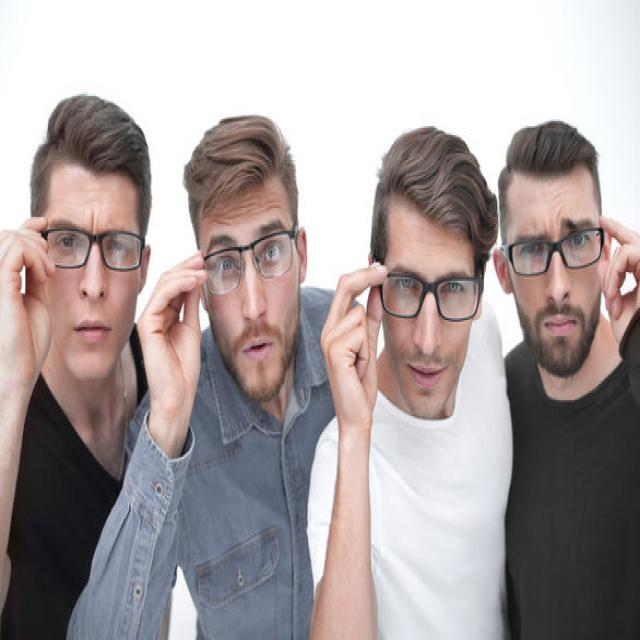Glasses: (199, 220, 299, 298), (374, 266, 484, 324), (35, 220, 146, 276), (502, 224, 609, 278)
